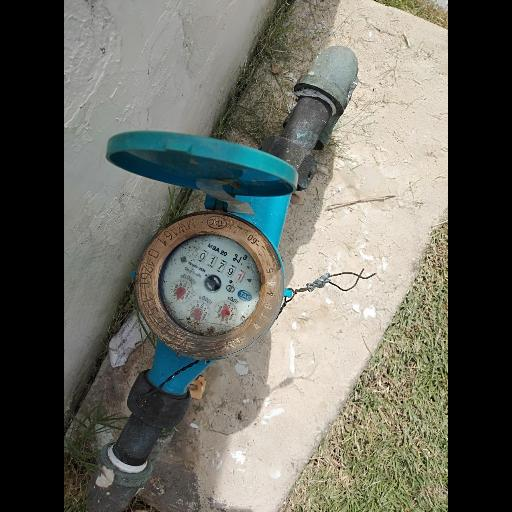0: (196, 249, 208, 263)
1: (206, 254, 218, 268), (234, 269, 246, 283)
7: (215, 259, 227, 273)
9: (226, 264, 237, 278)
border_water_meter_number: (195, 248, 247, 284)
